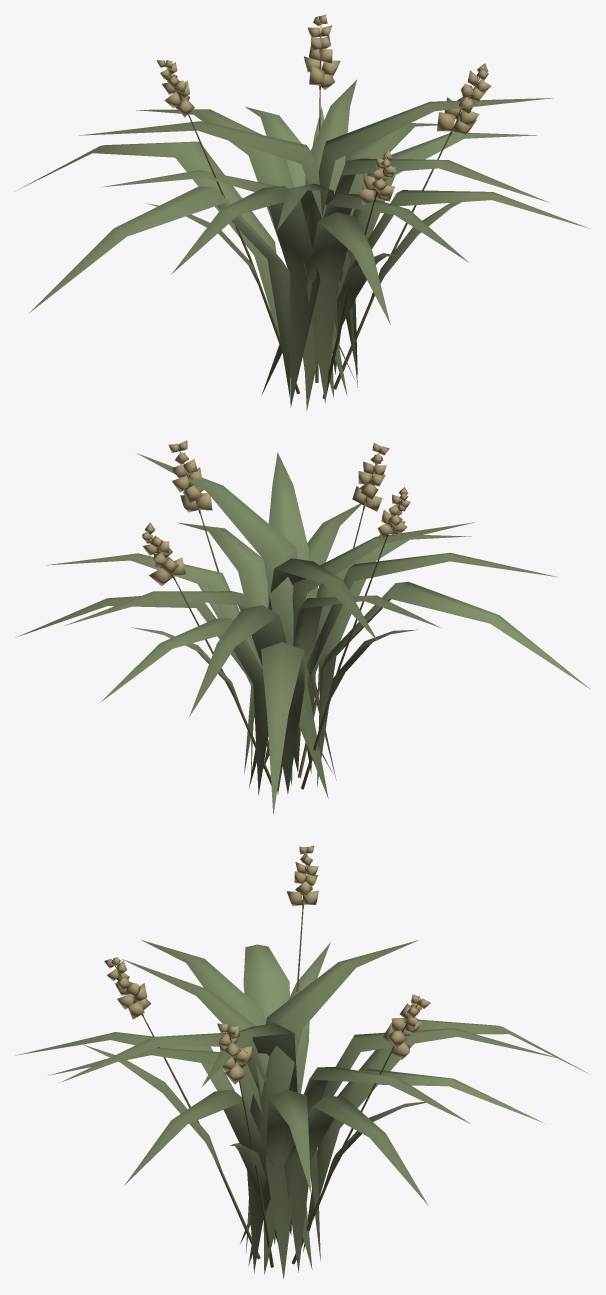
Rendered from dune_marram.glb.
3 renders of one model, top to bottom at view 1: azimuth 30°, elevation 25°; view 2: azimuth 150°, elevation 25°; view 3: azimuth 270°, elevation 25°, orthographic. The views are drawn at different scales.
Visible parts, largest first — view 1: dune_marram; view 2: dune_marram; view 3: dune_marram.
Part boxes in pixels (x1,y1,x2,y2): dune_marram: (16, 14, 589, 410); dune_marram: (15, 440, 590, 815); dune_marram: (15, 845, 590, 1279).
Size of the model in its own units: 1.05 by 0.6495 by 0.9748.
